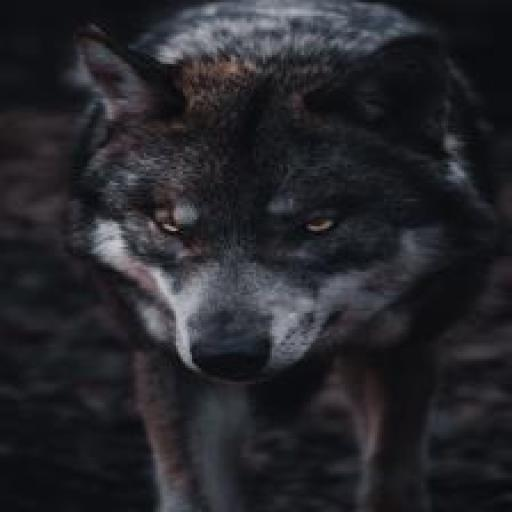wolf: (23, 0, 512, 512)
